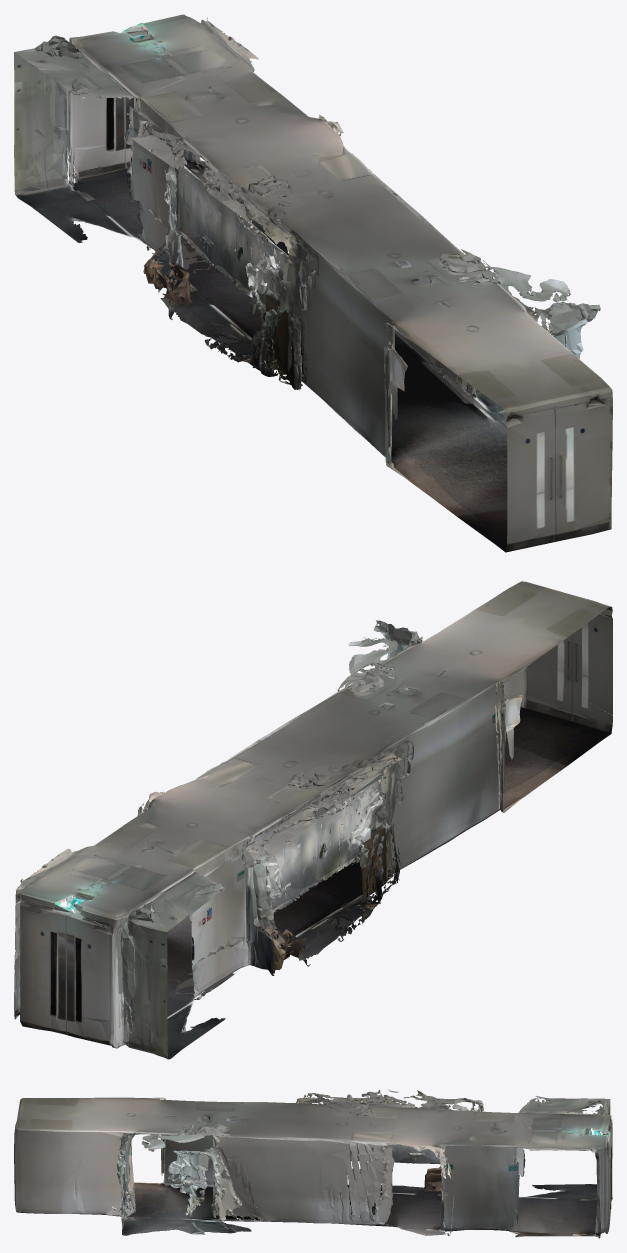
File: 4_corridor_LOW_POLY.fbx
The picture shows the model from 3 angles, top to bottom: view 1: azimuth 30°, elevation 25°; view 2: azimuth 150°, elevation 25°; view 3: azimuth 270°, elevation 25°; orthographic projection. The views are drawn at different scales.
Parts seen in each view (by area): view 1: 4_corridor_LOW_POLY; view 2: 4_corridor_LOW_POLY; view 3: 4_corridor_LOW_POLY.
Boxes of the visible parts, x1,y1,x2,y2 form: 4_corridor_LOW_POLY: (14,14,612,552); 4_corridor_LOW_POLY: (14,581,612,1059); 4_corridor_LOW_POLY: (14,1089,612,1238).
Size of the model in its own units: 284 by 261 by 1382.
Materials: 1 (1 with a texture image).
